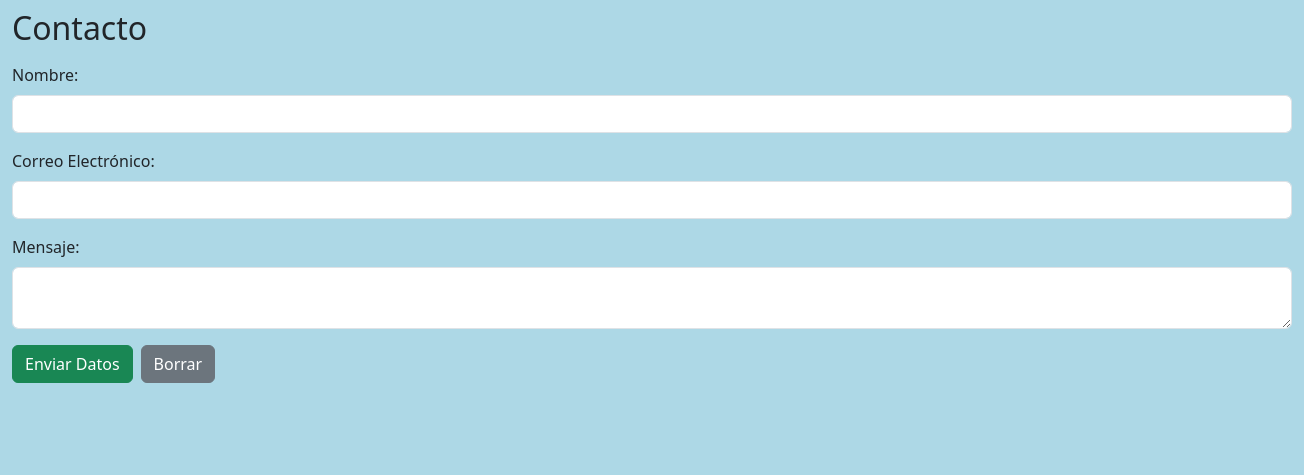
Test: Contacto › Muestra error de nombre obligatorio al enviar formulario vacío
Note: sólo click en enviar sin rellenar nada
Step 1. Click the button "Enviar Datos" → (72, 364), box [12, 345, 133, 383]
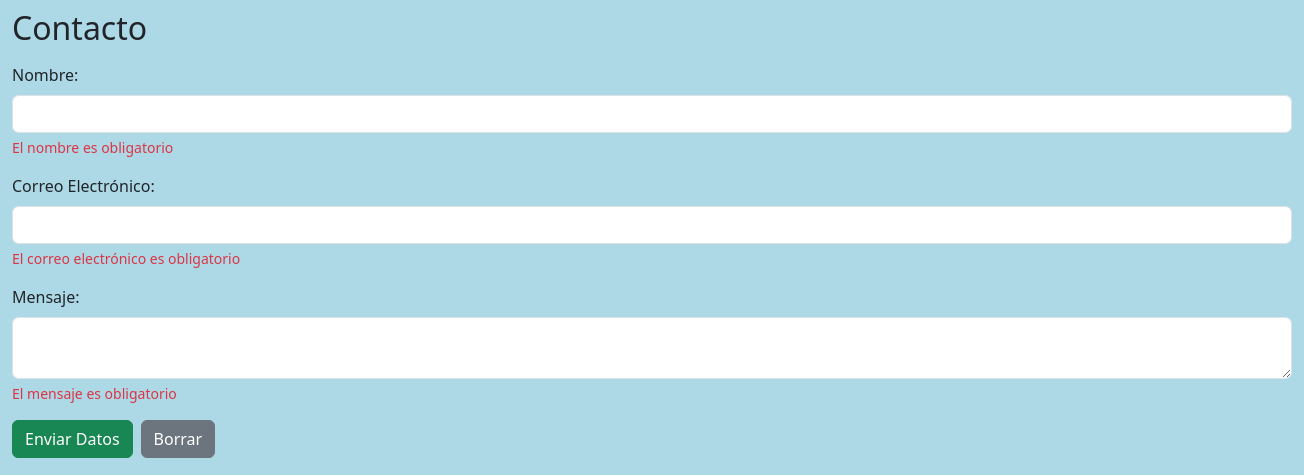
Expected: the text "El nombre es obligatorio" is shown, [12, 138, 173, 157]
